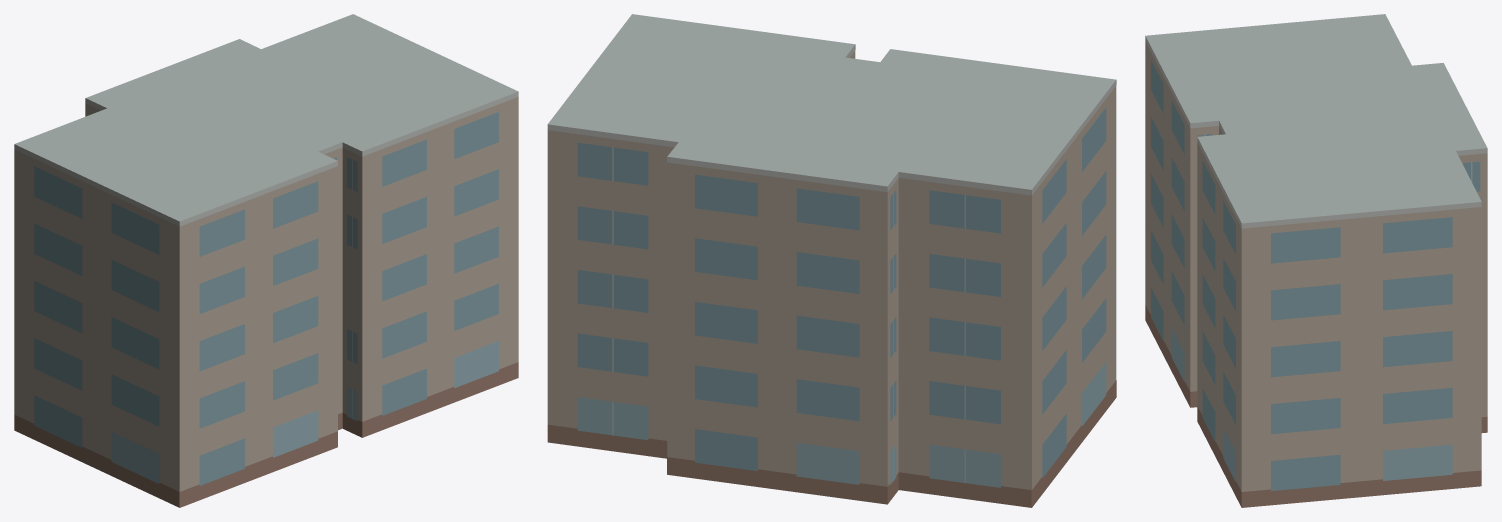
The model's file is survey-upis-33000467.glb.
The picture shows the model from 3 angles, left to right: view 1: azimuth 30°, elevation 25°; view 2: azimuth 150°, elevation 25°; view 3: azimuth 270°, elevation 25°; orthographic projection. The views are drawn at different scales.
Parts seen in each view (by area): view 1: survey-upis-33000467.tmp; view 2: survey-upis-33000467.tmp; view 3: survey-upis-33000467.tmp.
Boxes of the visible parts, <box> form: survey-upis-33000467.tmp: <box>14,14,518,507</box>; survey-upis-33000467.tmp: <box>547,14,1116,507</box>; survey-upis-33000467.tmp: <box>1145,14,1487,507</box>.
Size of the model in its own units: 21.49 by 13.6 by 14.84.
